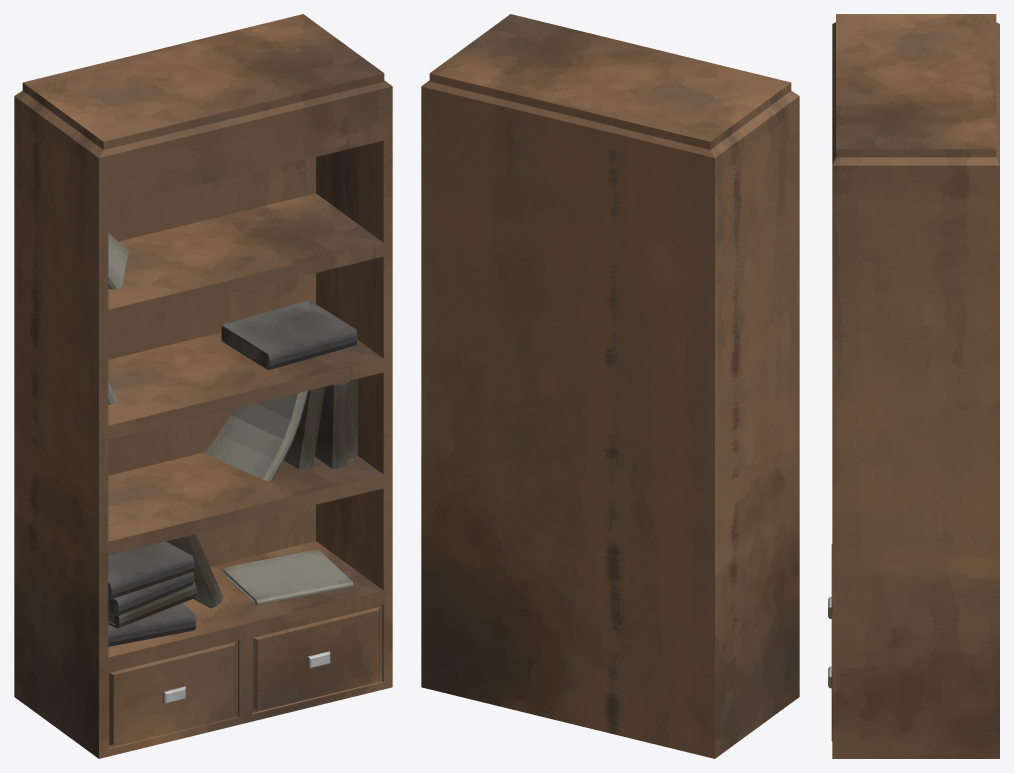
File: 장애물_책장.fbx
3 views of the same model, side by side, from view 1: azimuth 30°, elevation 25°; view 2: azimuth 150°, elevation 25°; view 3: azimuth 270°, elevation 25° (orthographic).
Visible parts, largest first — view 1: 책장; view 2: 책장; view 3: 책장.
Boxes of the visible parts, x1,y1,x2,y2 form: 책장: [14, 14, 392, 758]; 책장: [421, 14, 799, 758]; 책장: [828, 14, 999, 758].
Bounding box in the file's own units: 100 × 200 × 51.32.
Materials: 5 (5 with a texture image).
